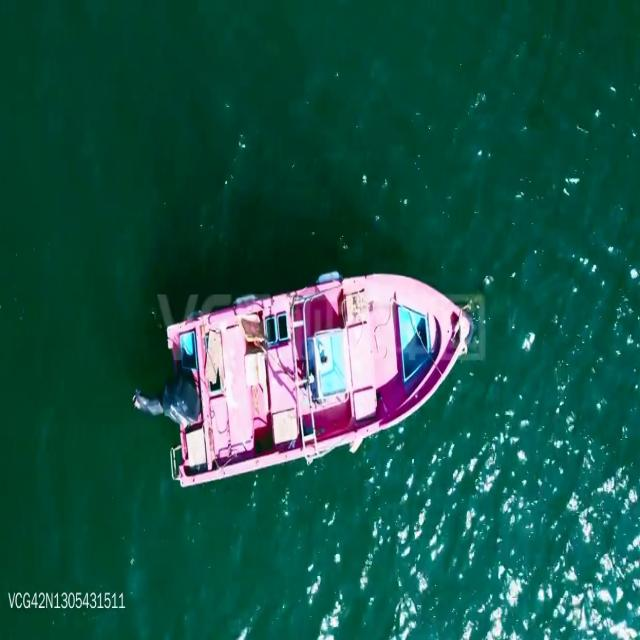houseboat: (155, 265, 473, 492)
